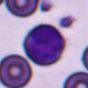L: (23, 24, 65, 66)
